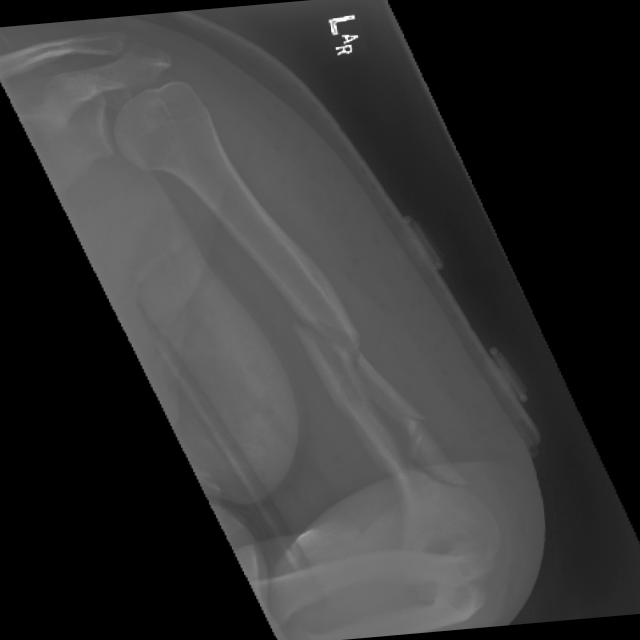humerus fracture: (273, 254, 504, 552)
